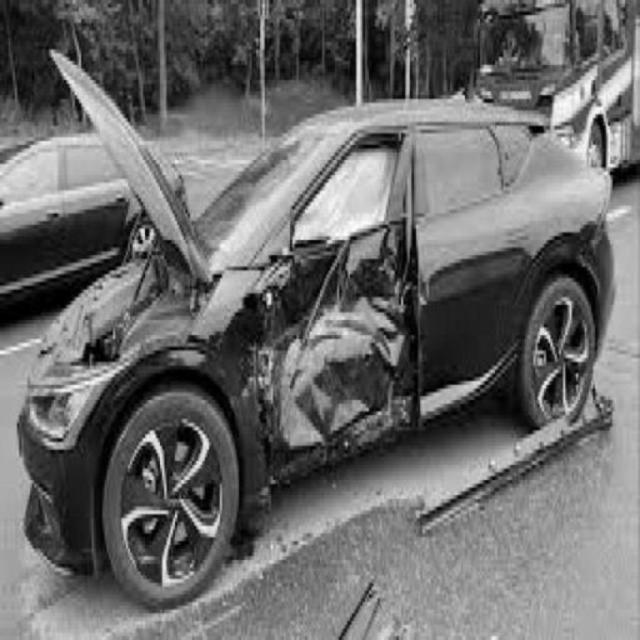vehicle: (24, 110, 618, 597), (3, 130, 188, 304), (479, 2, 639, 177)
